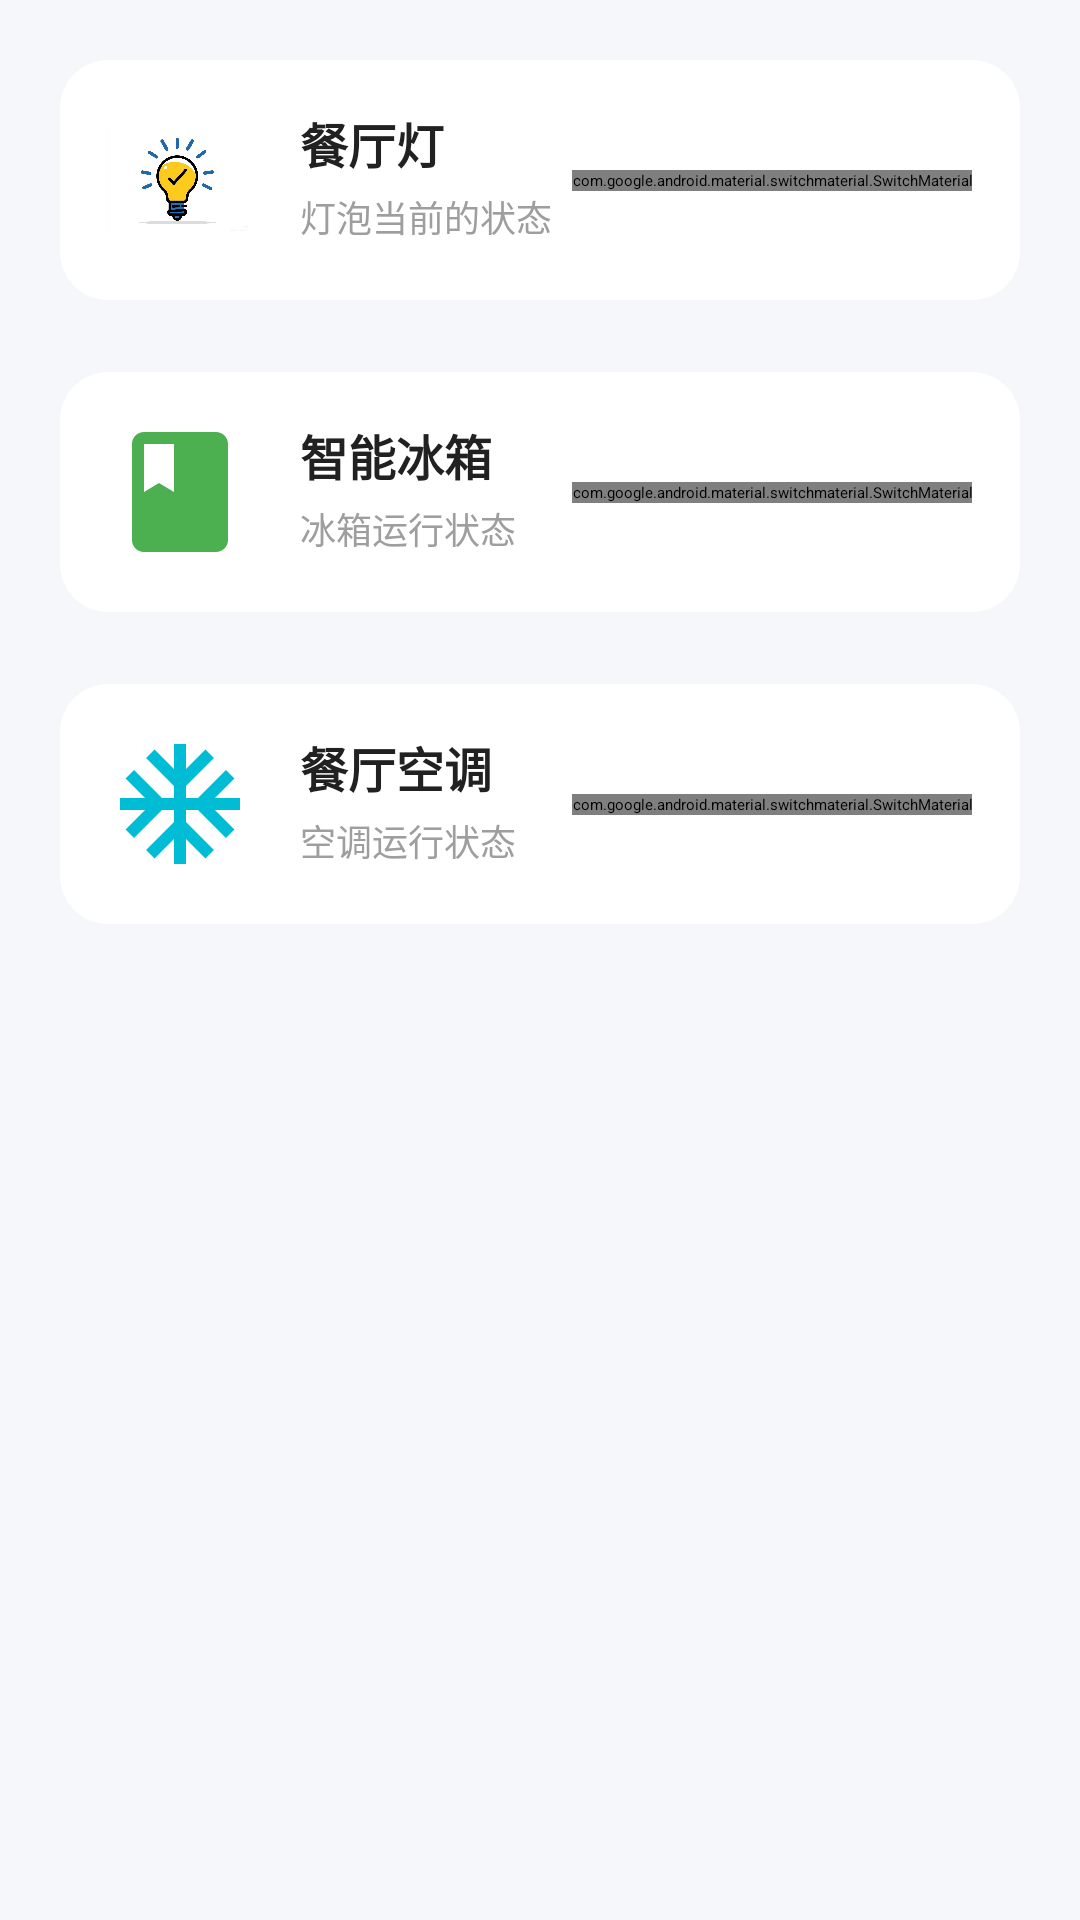

Icon bounding boxes for this 1080×1920 phone screenshot, format [x1, y1, x2, y2]:
aircon: [120, 744, 240, 864]
